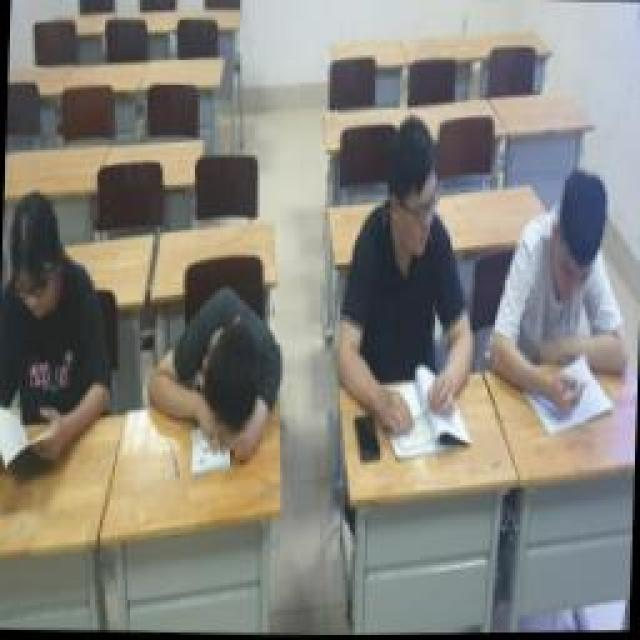sleep: (142, 285, 288, 477)
study: (332, 120, 482, 458), (495, 172, 633, 422), (0, 185, 118, 475)
